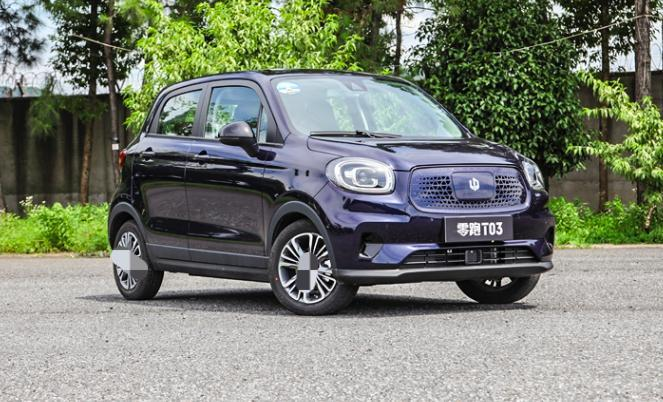LEAPMOTOR: (468, 177, 480, 191)
